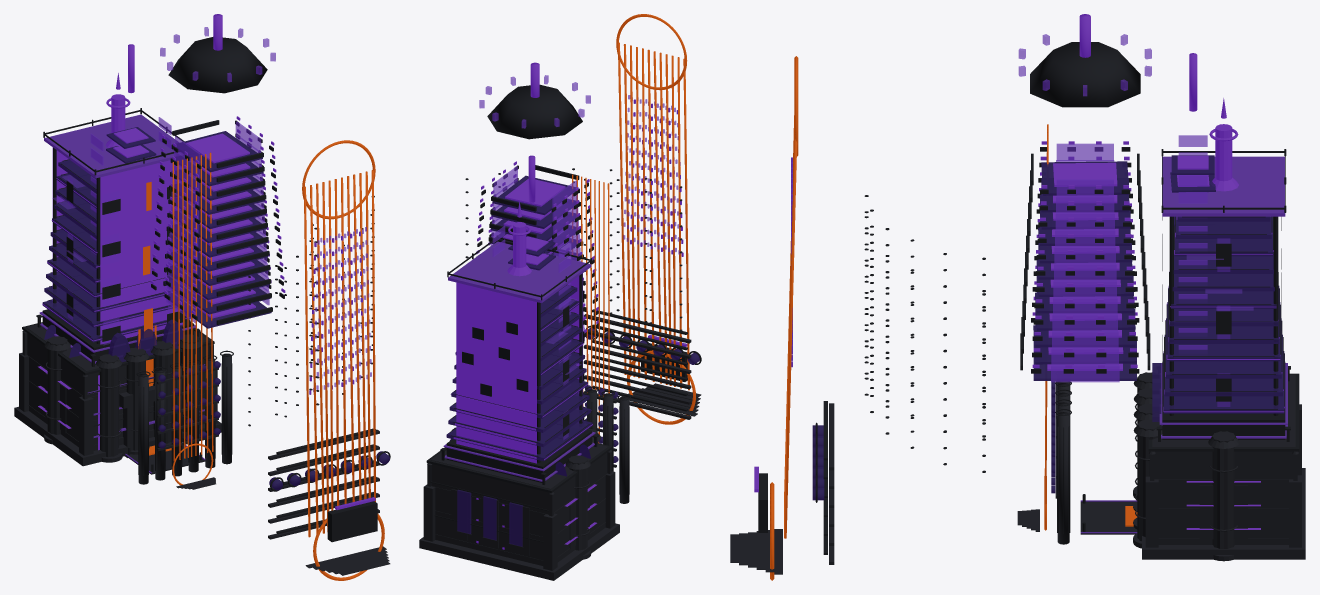
File: knowledgebase-ext-hero.glb
The picture shows the model from 3 angles, left to right: view 1: azimuth 30°, elevation 25°; view 2: azimuth 150°, elevation 25°; view 3: azimuth 270°, elevation 25°; orthographic projection. The views are drawn at different scales.
Parts seen in each view (by area): view 1: knowledgebase_s86_base_hero_mesh, knowledgebase_s86_detail_hero_mesh, knowledgebase_s86_emissive_hero_mesh, knowledgebase_s86_glass_hero_mesh, knowledgebase_s86_energy_hero_mesh, knowledgebase_s86_holo_hero_mesh, knowledgebase_s74_accent_combined_mesh; view 2: knowledgebase_s86_base_hero_mesh, knowledgebase_s86_emissive_hero_mesh, knowledgebase_s86_detail_hero_mesh, knowledgebase_s86_energy_hero_mesh, knowledgebase_s86_glass_hero_mesh, knowledgebase_s86_holo_hero_mesh, knowledgebase_s74_accent_combined_mesh; view 3: knowledgebase_s86_glass_hero_mesh, knowledgebase_s86_base_hero_mesh, knowledgebase_s86_detail_hero_mesh, knowledgebase_s86_holo_hero_mesh, knowledgebase_s86_emissive_hero_mesh, knowledgebase_s74_accent_combined_mesh, knowledgebase_s86_energy_hero_mesh.
Part boxes in pixels (x1,y1,x2,y2): knowledgebase_s86_base_hero_mesh: (14, 324, 390, 575); knowledgebase_s86_detail_hero_mesh: (22, 37, 390, 542); knowledgebase_s86_emissive_hero_mesh: (38, 14, 375, 509); knowledgebase_s86_glass_hero_mesh: (42, 127, 389, 490); knowledgebase_s86_energy_hero_mesh: (138, 140, 384, 580); knowledgebase_s86_holo_hero_mesh: (52, 27, 371, 391); knowledgebase_s74_accent_combined_mesh: (39, 114, 205, 473); knowledgebase_s86_base_hero_mesh: (419, 314, 701, 580); knowledgebase_s86_emissive_hero_mesh: (450, 62, 687, 549); knowledgebase_s86_detail_hero_mesh: (426, 84, 701, 542); knowledgebase_s86_energy_hero_mesh: (572, 14, 695, 443); knowledgebase_s86_glass_hero_mesh: (446, 175, 699, 546); knowledgebase_s86_holo_hero_mesh: (479, 75, 679, 439); knowledgebase_s74_accent_combined_mesh: (443, 241, 595, 481); knowledgebase_s86_glass_hero_mesh: (812, 155, 1284, 500); knowledgebase_s86_base_hero_mesh: (730, 372, 1305, 574); knowledgebase_s86_detail_hero_mesh: (758, 42, 1299, 554); knowledgebase_s86_holo_hero_mesh: (791, 34, 1253, 406); knowledgebase_s86_emissive_hero_mesh: (754, 14, 1284, 529); knowledgebase_s74_accent_combined_mesh: (1080, 156, 1287, 533); knowledgebase_s86_energy_hero_mesh: (770, 56, 1137, 580).
Size of the model in its own units: 8.48 by 16.6 by 15.46.
